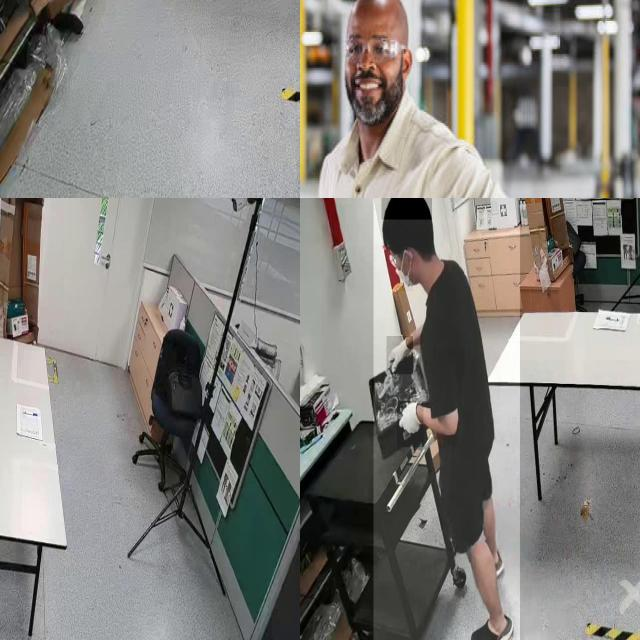No_Ear-Protection: (401, 48, 414, 84)
face_mask: (397, 258, 413, 292)
face_nomask: (345, 52, 404, 126)
glasses: (345, 37, 406, 64)
hand_glove: (397, 401, 423, 447), (387, 336, 413, 374)
head_nohelmet: (350, 0, 409, 44), (381, 198, 432, 220)
person: (373, 198, 520, 640)
shoes: (469, 605, 515, 640)
